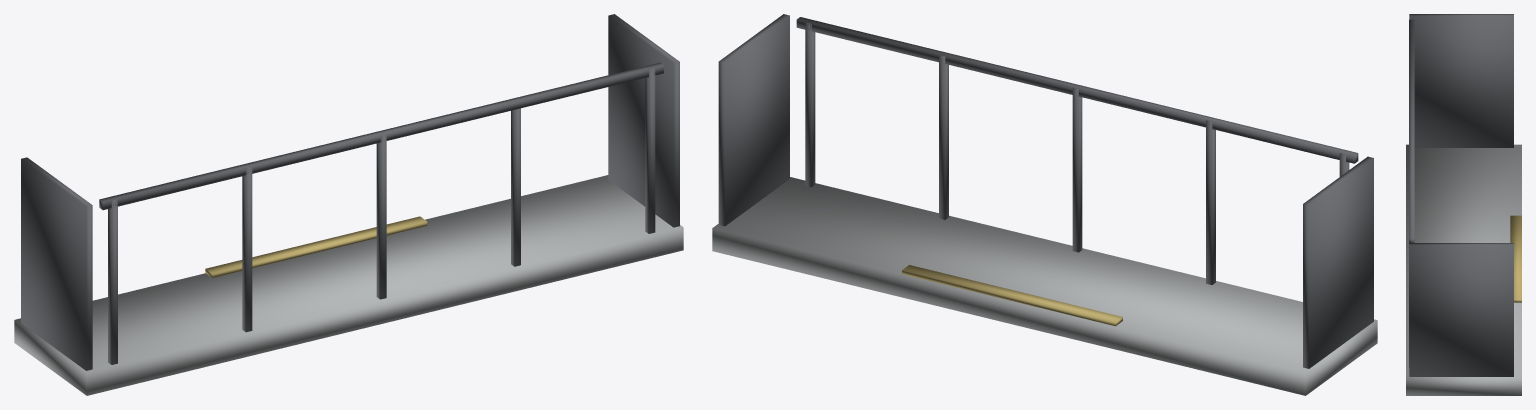
The model's file is industrial_w380_d80_door.glb.
3 views of the same model, side by side, from view 1: azimuth 30°, elevation 25°; view 2: azimuth 150°, elevation 25°; view 3: azimuth 270°, elevation 25° (orthographic). The views are drawn at different scales.
Visible parts, largest first — view 1: world; view 2: world; view 3: world.
Boxes of the visible parts, <box> form: world: <box>14,14,683,395</box>; world: <box>712,14,1377,395</box>; world: <box>1406,14,1521,395</box>.
Bounding box in the file's own units: 3.8 × 1.14 × 0.8.
